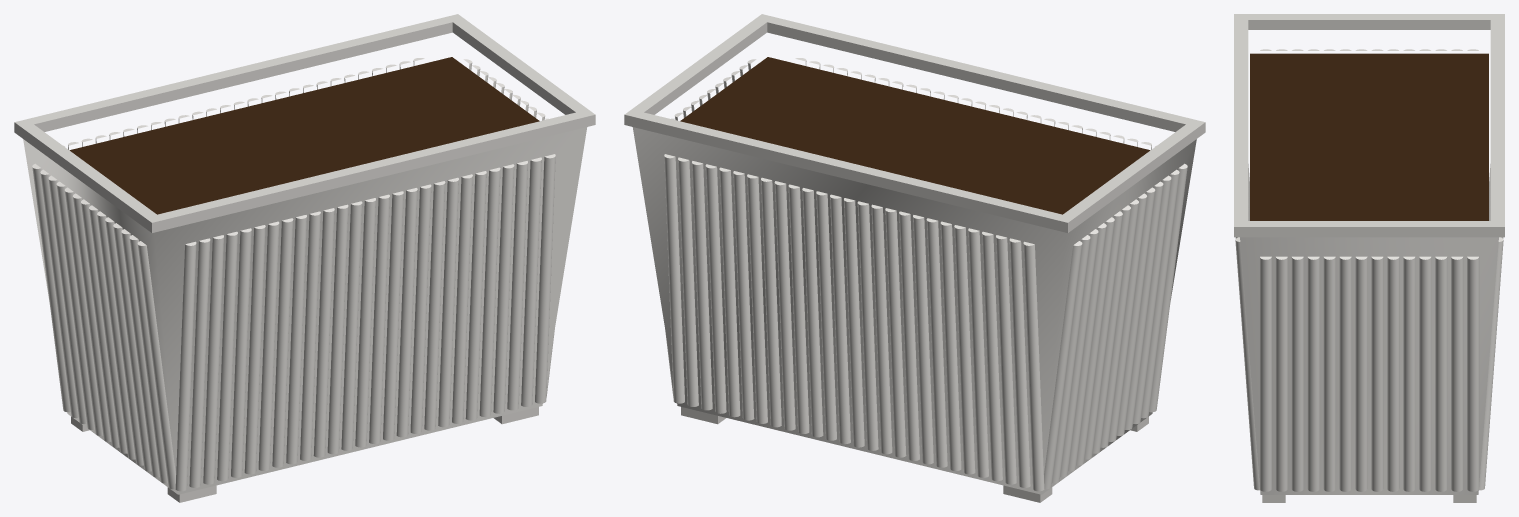
3 views of the same model, side by side, from view 1: azimuth 30°, elevation 25°; view 2: azimuth 150°, elevation 25°; view 3: azimuth 270°, elevation 25° (orthographic).
Parts seen in each view (by area): view 1: shell, soil, rim-top-f, rim-top-b, flute-0-7, flute-0-0, flute-0-4, flute-0-16, flute-0-21, flute-0-1, flute-0-5, flute-0-6 (+39 smaller); view 2: shell, soil, rim-top-b, rim-top-f, flute-1-19, flute-1-5, flute-1-10, flute-1-22, flute-1-26, flute-1-4, flute-1-7, flute-1-14 (+39 smaller); view 3: soil, shell, rim-top-f, rim-top-b, flute-2-5, flute-2-6, flute-2-7, flute-2-8, flute-2-1, flute-2-2, flute-2-3, flute-2-4 (+12 smaller).
Boxes of the visible parts, x1,y1,x2,y2 form: shell: [23, 127, 587, 494]; soil: [69, 57, 539, 214]; rim-top-f: [145, 109, 595, 227]; rim-top-b: [14, 14, 464, 131]; flute-0-7: [272, 218, 293, 467]; flute-0-0: [175, 241, 196, 491]; flute-0-4: [231, 228, 251, 477]; flute-0-16: [396, 188, 417, 437]; flute-0-21: [465, 171, 486, 420]; flute-0-1: [189, 238, 210, 487]; flute-0-5: [244, 225, 265, 474]; flute-0-6: [258, 221, 279, 470]; shell: [632, 127, 1196, 494]; soil: [680, 57, 1150, 214]; rim-top-b: [624, 109, 1074, 227]; rim-top-f: [755, 14, 1205, 131]; flute-1-19: [926, 218, 947, 467]; flute-1-5: [733, 171, 754, 420]; flute-1-10: [802, 188, 823, 437]; flute-1-22: [968, 228, 988, 477]; flute-1-26: [1023, 241, 1044, 491]; flute-1-4: [719, 167, 740, 417]; flute-1-7: [761, 177, 781, 427]; flute-1-14: [857, 201, 878, 450]; soil: [1250, 53, 1488, 220]; shell: [1240, 237, 1498, 494]; rim-top-f: [1234, 14, 1248, 231]; rim-top-b: [1490, 14, 1504, 231]; flute-2-5: [1339, 256, 1351, 491]; flute-2-6: [1355, 256, 1367, 491]; flute-2-7: [1371, 256, 1383, 491]; flute-2-8: [1387, 256, 1399, 491]; flute-2-1: [1275, 256, 1287, 491]; flute-2-2: [1291, 256, 1303, 491]; flute-2-3: [1307, 256, 1319, 491]; flute-2-4: [1323, 256, 1335, 491].
Size of the model in its own units: 1.08 by 0.7 by 0.58.
